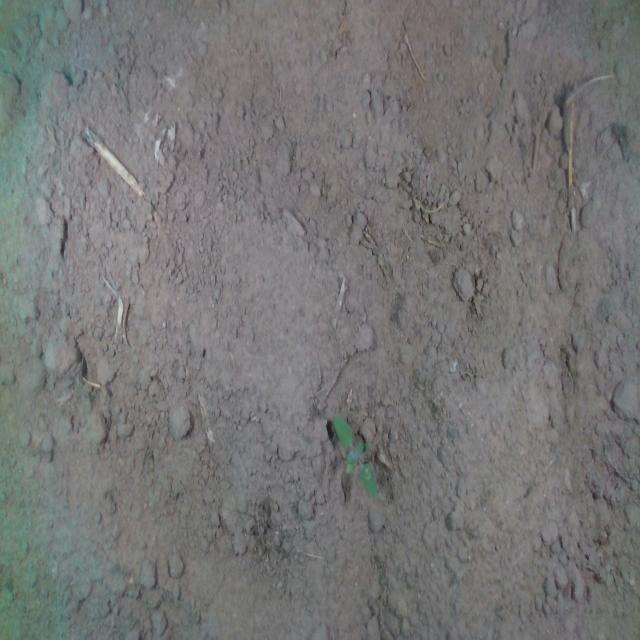weed: (331, 412, 378, 498)
